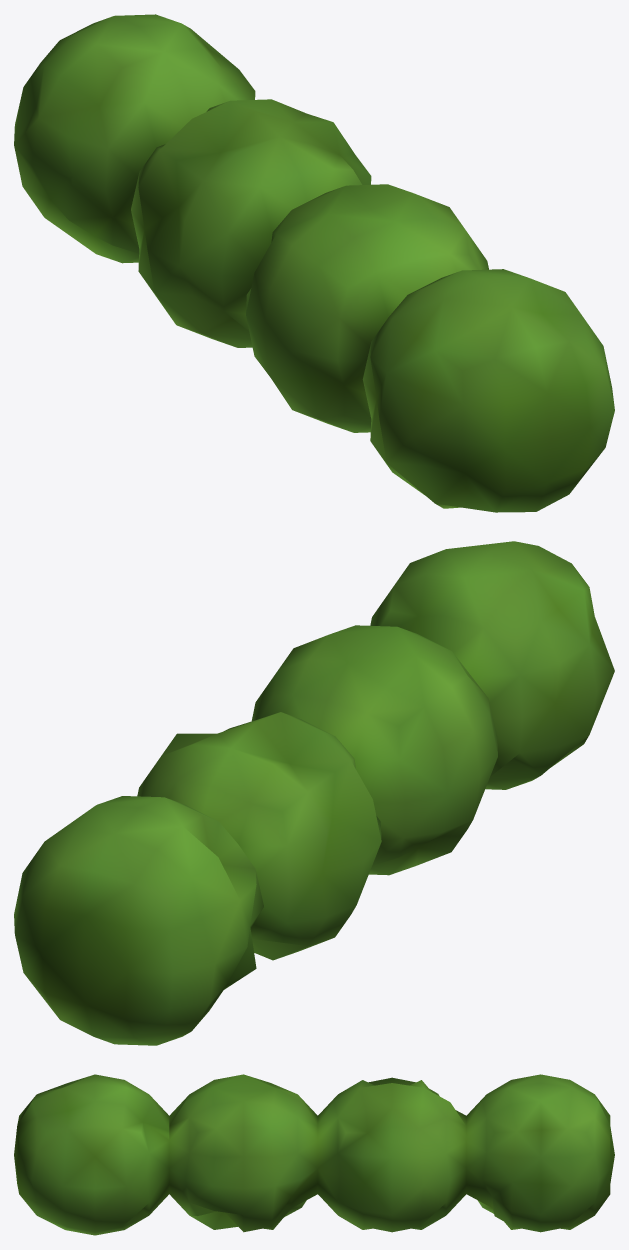
File: microscopic-bacteria-chain-bacterium_v1.glb
The picture shows the model from 3 angles, top to bottom: view 1: azimuth 30°, elevation 25°; view 2: azimuth 150°, elevation 25°; view 3: azimuth 270°, elevation 25°; orthographic projection. The views are drawn at different scales.
Parts seen in each view (by area): view 1: Chain Bacterium_v1; view 2: Chain Bacterium_v1; view 3: Chain Bacterium_v1.
Part boxes in pixels (left/top/right/bottom): Chain Bacterium_v1: left=14, top=14, right=614, bottom=512; Chain Bacterium_v1: left=14, top=541, right=614, bottom=1045; Chain Bacterium_v1: left=14, top=1074, right=614, bottom=1235.
Size of the model in its own units: 0.1058 by 0.1058 by 0.4.
